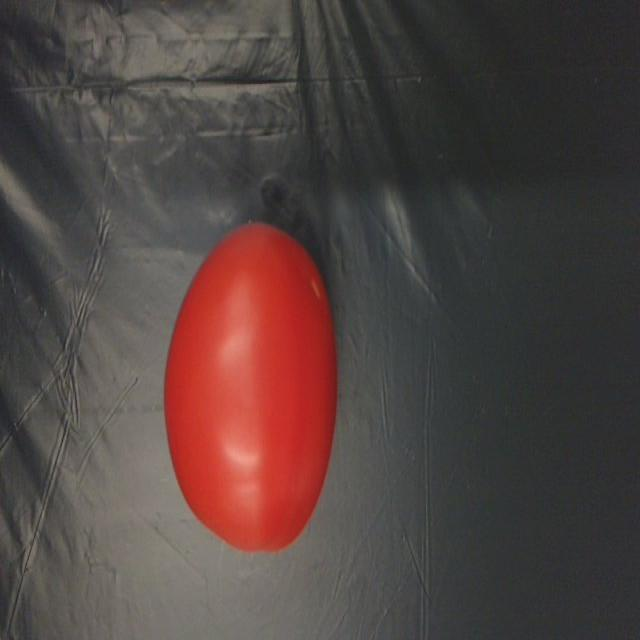kirmizi: (160, 215, 344, 558)
